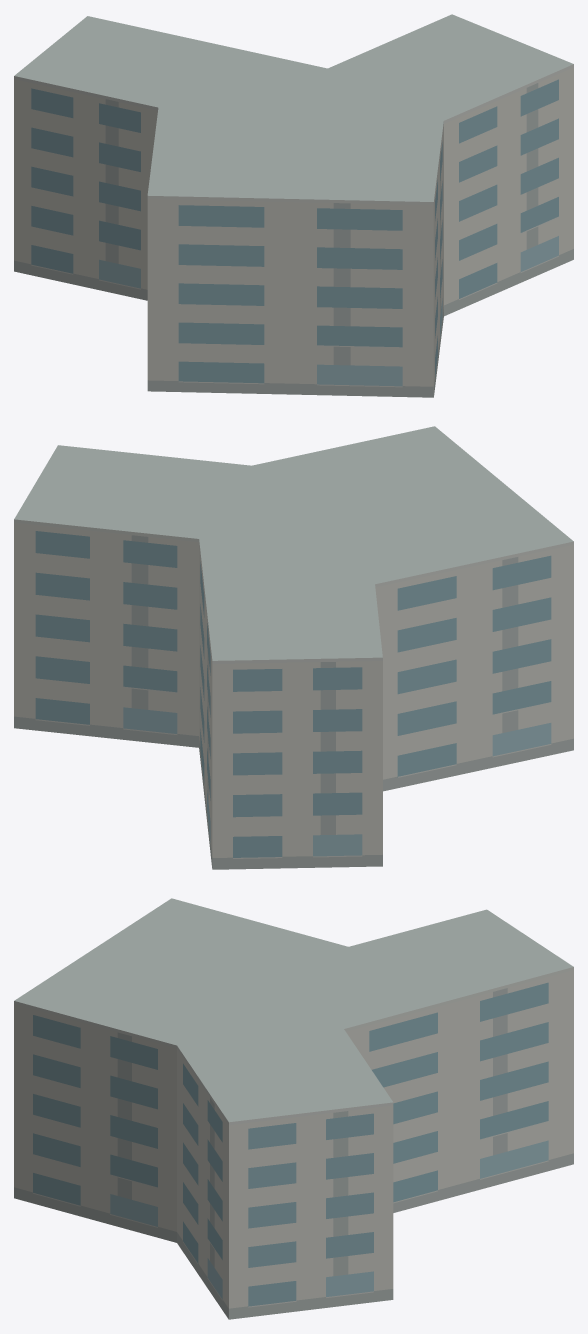
File: residential-b2c4fb08-8f70-40c4-b62e-ab6957f765d3.glb
3 renders of one model, top to bottom at view 1: azimuth 30°, elevation 25°; view 2: azimuth 150°, elevation 25°; view 3: azimuth 270°, elevation 25°, orthographic. The views are drawn at different scales.
Parts seen in each view (by area): view 1: residential-b2c4fb08-8f70-40c4-b62e-ab6957f765d3.tmp; view 2: residential-b2c4fb08-8f70-40c4-b62e-ab6957f765d3.tmp; view 3: residential-b2c4fb08-8f70-40c4-b62e-ab6957f765d3.tmp.
Boxes of the visible parts, x1=… form: residential-b2c4fb08-8f70-40c4-b62e-ab6957f765d3.tmp: x1=14, y1=14, x2=573, y2=397; residential-b2c4fb08-8f70-40c4-b62e-ab6957f765d3.tmp: x1=14, y1=426, x2=573, y2=869; residential-b2c4fb08-8f70-40c4-b62e-ab6957f765d3.tmp: x1=14, y1=898, x2=573, y2=1319.
Bounding box in the file's own units: 37.12 × 15.25 × 39.21.
